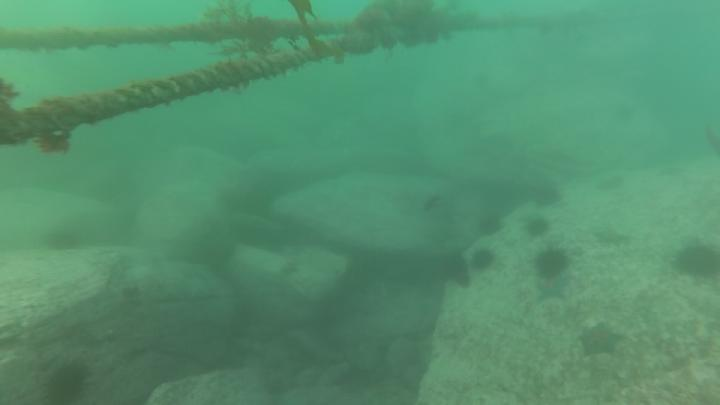echinus: (671, 241, 720, 283), (44, 361, 90, 405), (534, 247, 571, 283), (42, 227, 85, 253), (531, 185, 566, 211), (468, 247, 498, 275), (612, 98, 639, 125), (476, 214, 505, 239), (523, 216, 552, 241), (468, 70, 494, 92)
starfish: (578, 321, 626, 361), (535, 277, 569, 308), (592, 226, 632, 251), (275, 257, 303, 281)
